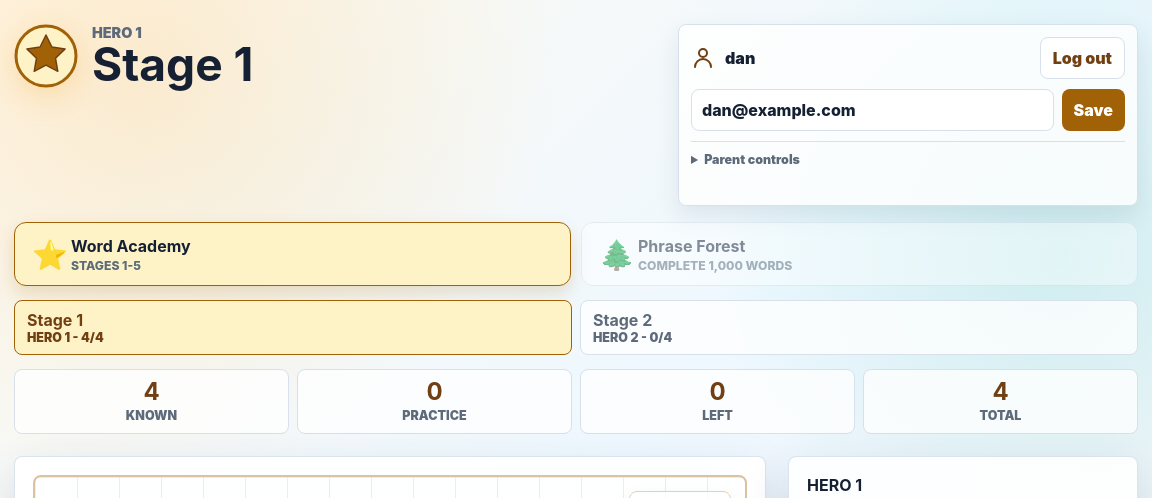
Test case: App integration › selects an unlocked stage and applies its theme
Expected: the heading "Stage 1" is shown, [92,42,253,88]
Click the button "Stage 2 Hero 2 - 0/4" at (623, 320), box [580,300,1138,355]
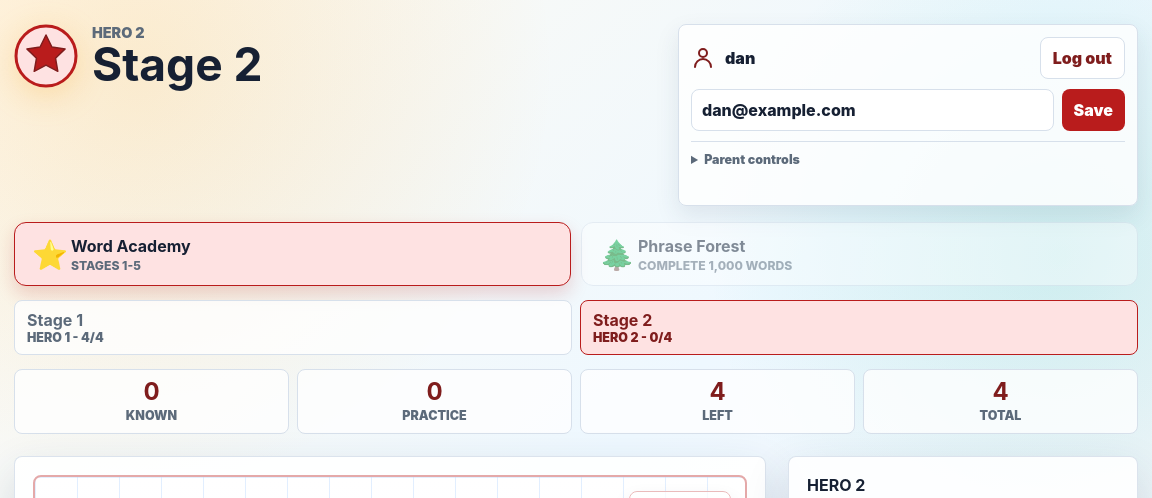
Now the heading "Stage 2" is shown, box [92,42,262,88]
